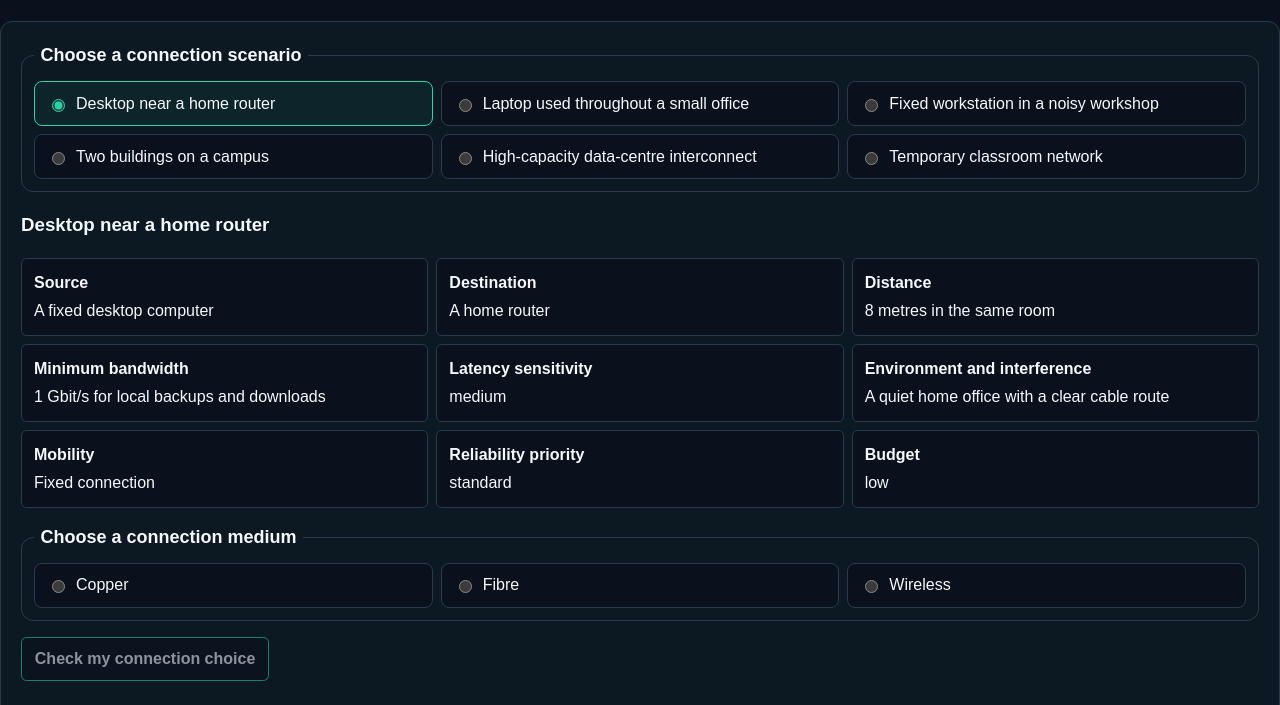
Test: ConnectionMediaLab › explains Recommended and compares with the recommended option
Click the radio button labelled "Desktop near a home router" at (58,105), box [52, 99, 65, 112]
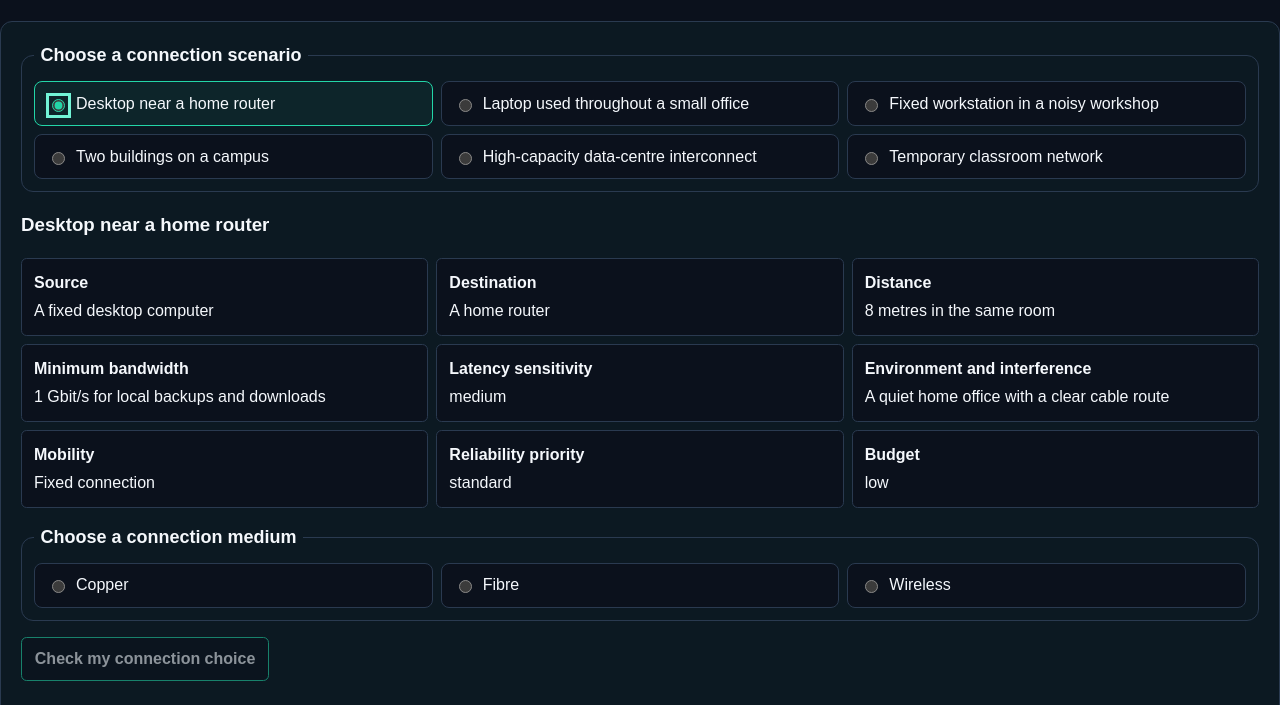
Click the radio button labelled "Copper" at (58,587), box [52, 580, 65, 594]
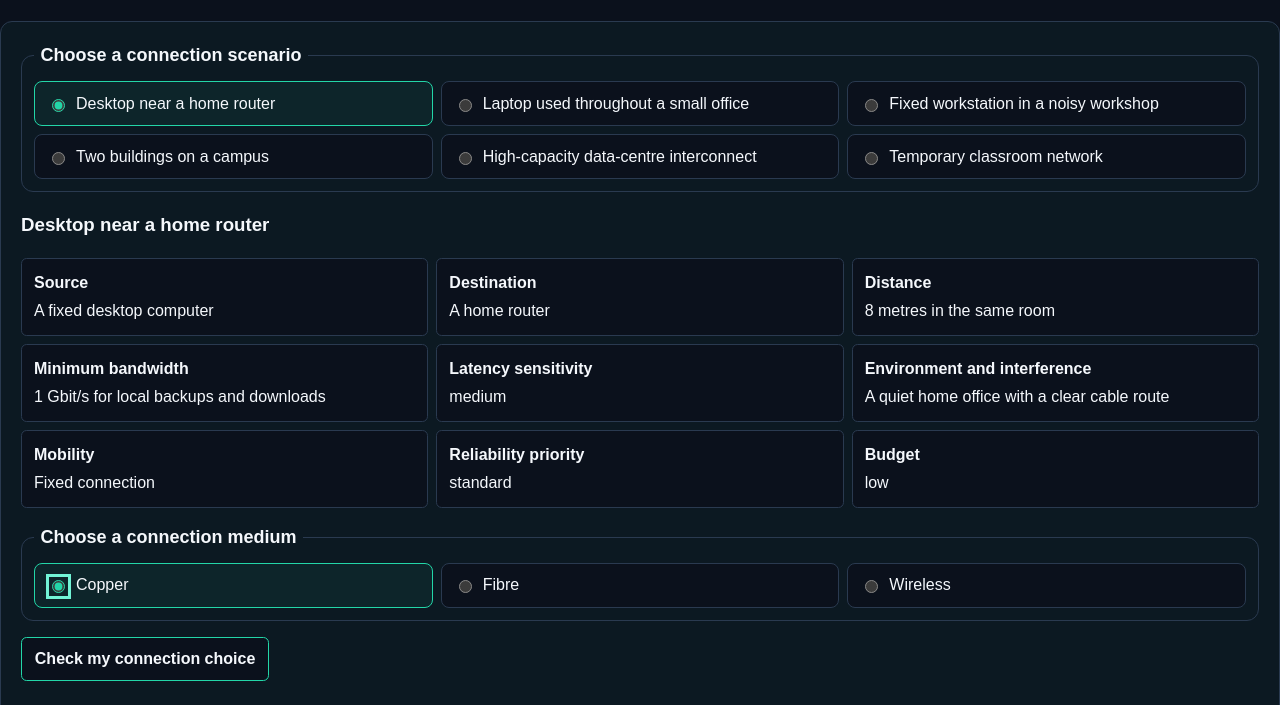
Click the button "Check my connection choice" at (145,659), box [21, 637, 269, 681]
(page scrolled)
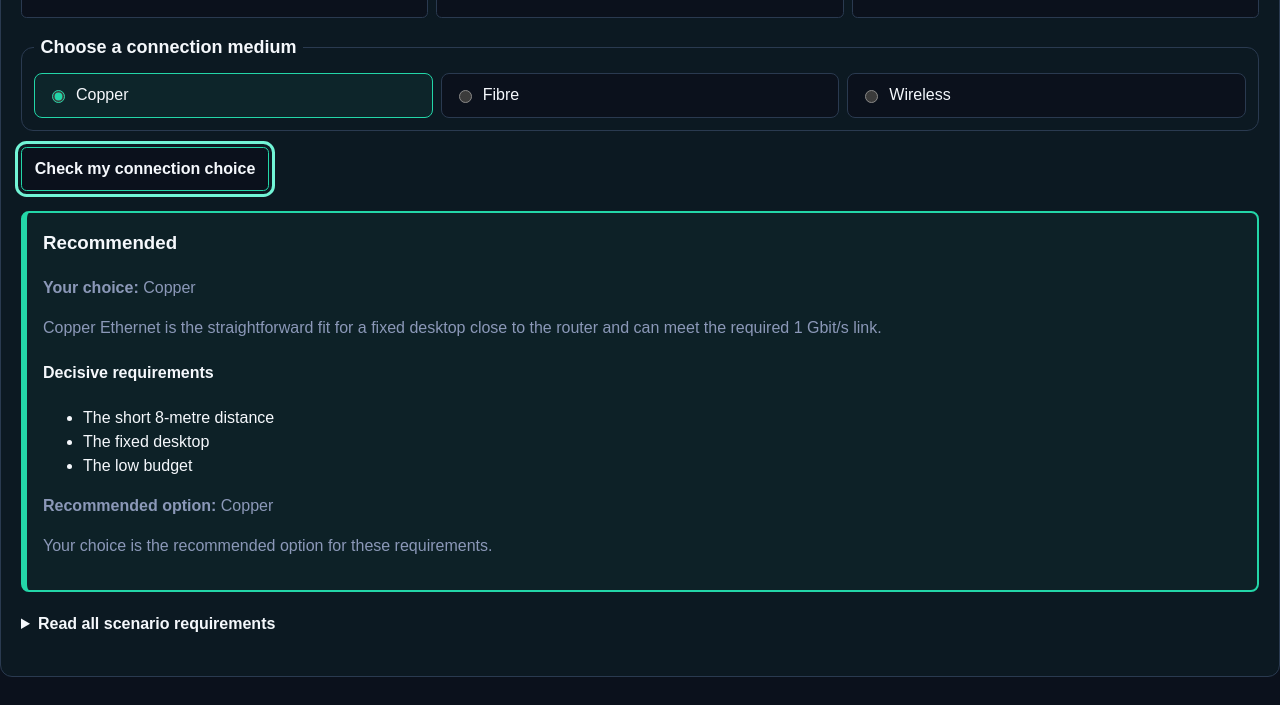
Expected: the heading "Recommended" is shown, [43, 232, 177, 253]
Expected: the element named "Connection choice result" shows "The low budget", [83, 457, 192, 474]
Expected: the element named "Connection choice result" shows "straightforward fit", [43, 319, 882, 336]
